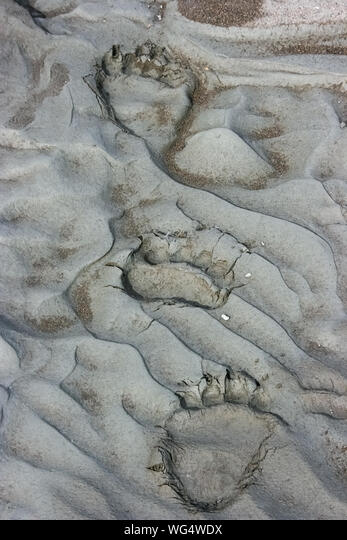bear: (147, 356, 287, 512), (70, 32, 231, 159), (114, 211, 261, 322)
